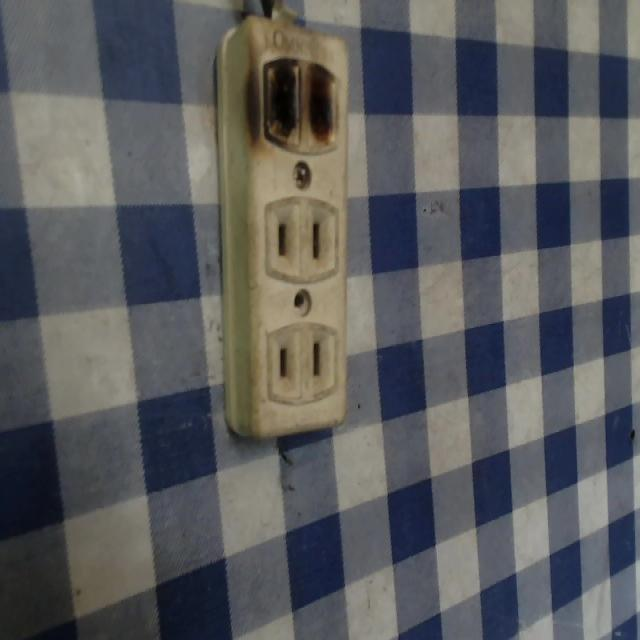-: (252, 45, 348, 159)
